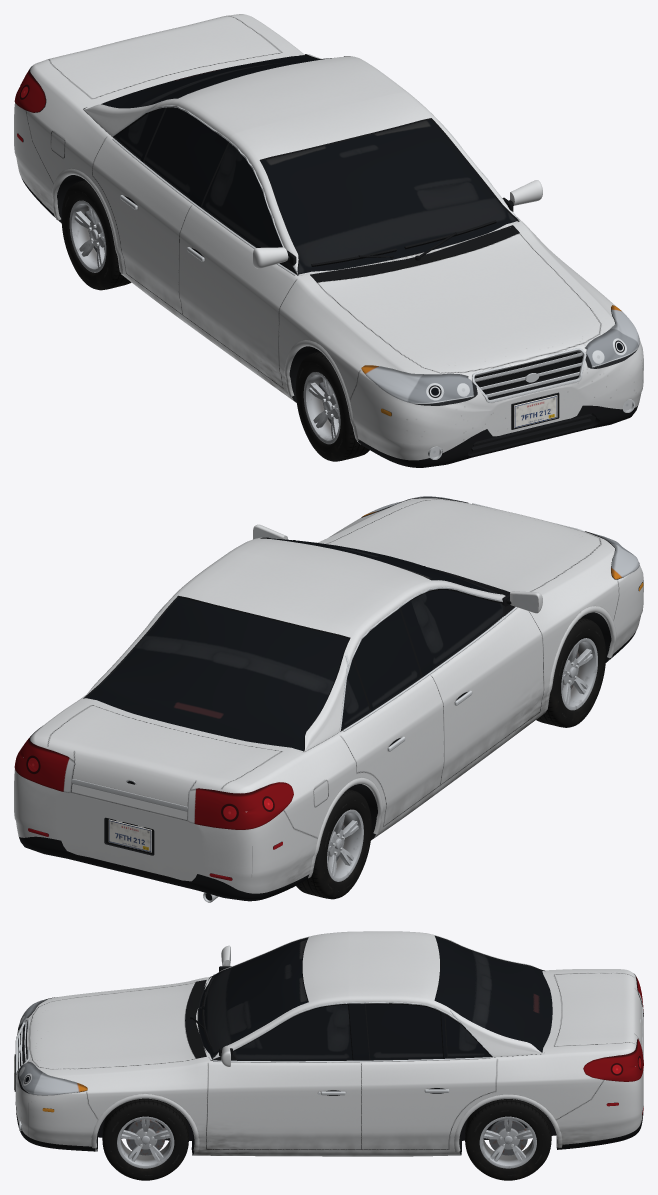
File: SM_Sedan.glb
3 views of the same model, one above another, from view 1: azimuth 30°, elevation 25°; view 2: azimuth 150°, elevation 25°; view 3: azimuth 270°, elevation 25° (orthographic). The views are drawn at different scales.
Parts seen in each view (by area): view 1: SM_Sedan; view 2: SM_Sedan; view 3: SM_Sedan.
Part boxes in pixels (box(x1,y1,x2,y2)): SM_Sedan: box(14, 14, 643, 467); SM_Sedan: box(14, 496, 643, 902); SM_Sedan: box(14, 931, 643, 1180).
Size of the model in its own units: 1.97 by 1.45 by 4.86.
Materials: 11 (11 with a texture image).
